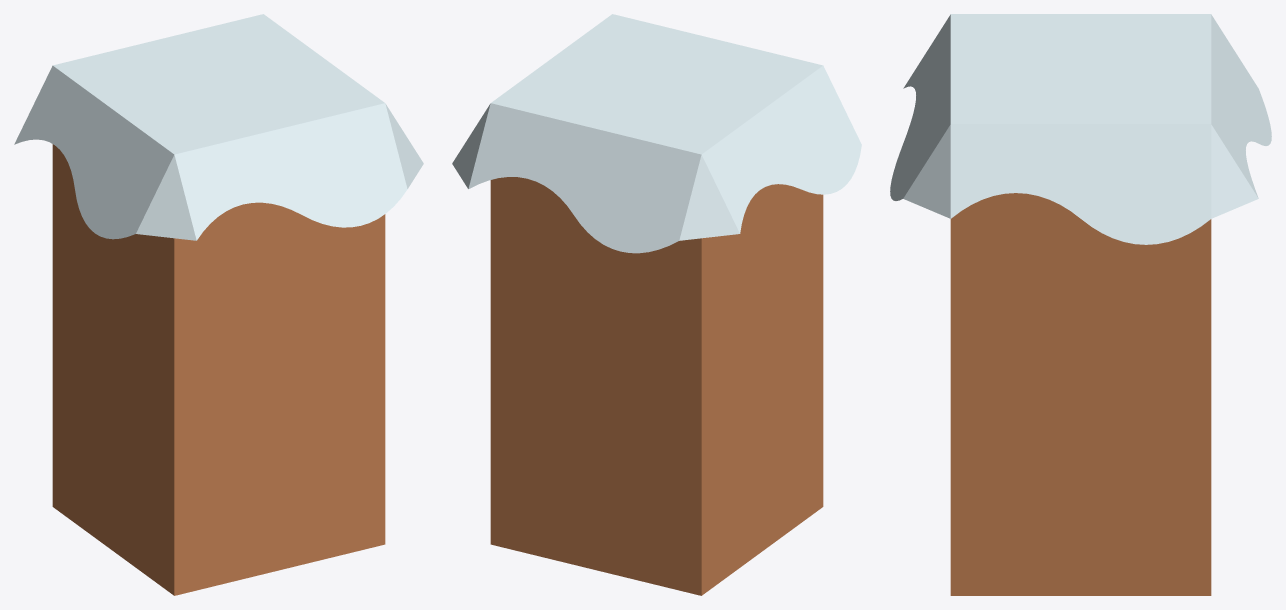
Rendered from blockSnowQuarter.fbx.
The picture shows the model from 3 angles, left to right: view 1: azimuth 30°, elevation 25°; view 2: azimuth 150°, elevation 25°; view 3: azimuth 270°, elevation 25°; orthographic projection. The views are drawn at different scales.
Visible parts, largest first — view 1: blockSnowQuarter; view 2: blockSnowQuarter; view 3: blockSnowQuarter.
Boxes of the visible parts, x1,y1,x2,y2 form: blockSnowQuarter: (14,14,423,595); blockSnowQuarter: (452,14,861,595); blockSnowQuarter: (890,14,1271,595).
Bounding box in the file's own units: 7.33 × 10 × 7.33.
